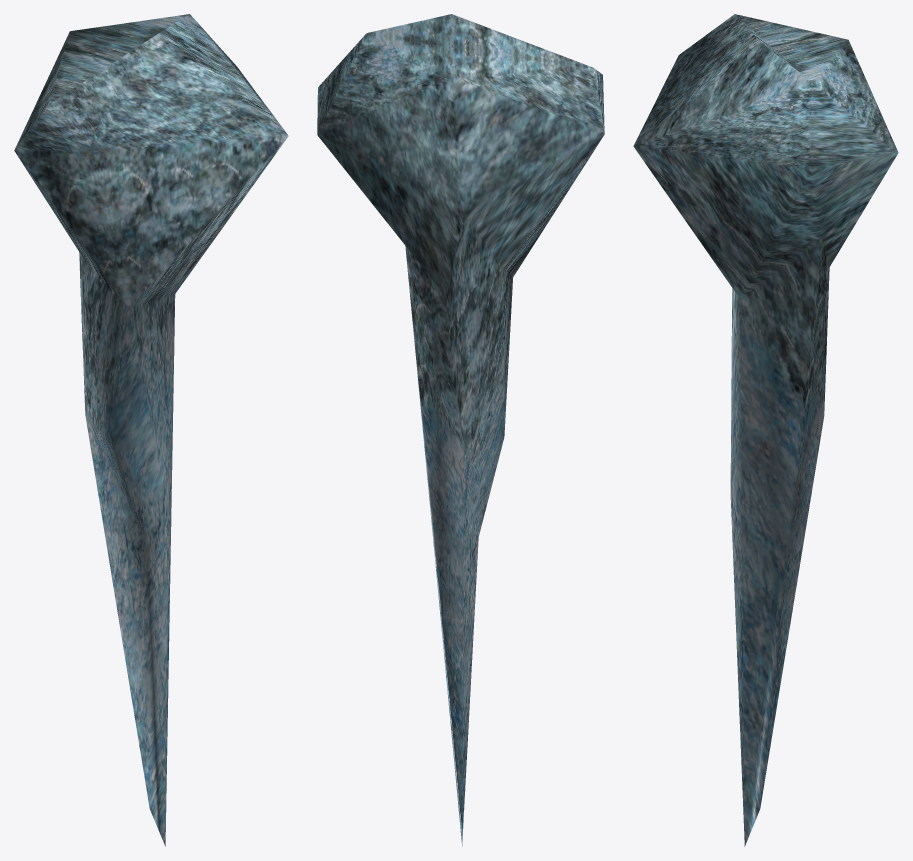
File: thm_all_cave_stalagtite_ice_b2_l1.fbx
3 renders of one model, left to right at view 1: azimuth 30°, elevation 25°; view 2: azimuth 150°, elevation 25°; view 3: azimuth 270°, elevation 25°, orthographic. The views are drawn at different scales.
Parts seen in each view (by area): view 1: mesh_node; view 2: mesh_node; view 3: mesh_node.
Boxes of the visible parts, x1,y1,x2,y2 form: mesh_node: (14,14,288,846); mesh_node: (317,14,604,846); mesh_node: (633,14,898,846).
Size of the model in its own units: 1.23 by 3.81 by 1.14.
